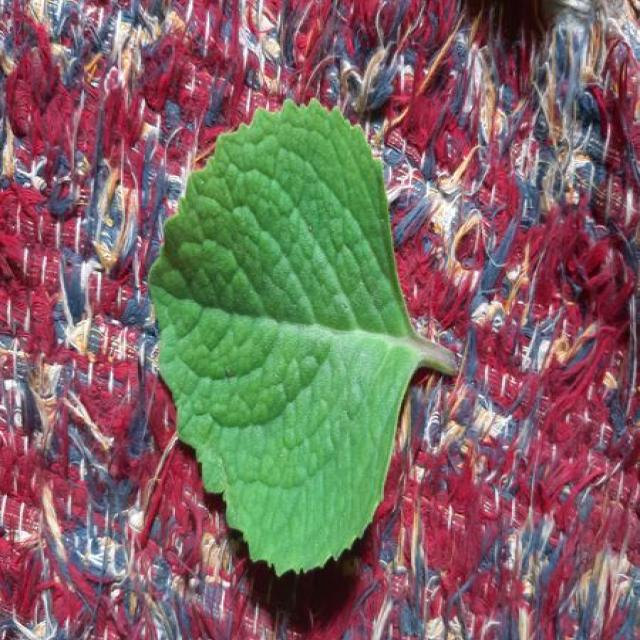doddpathre: (148, 101, 457, 574)
